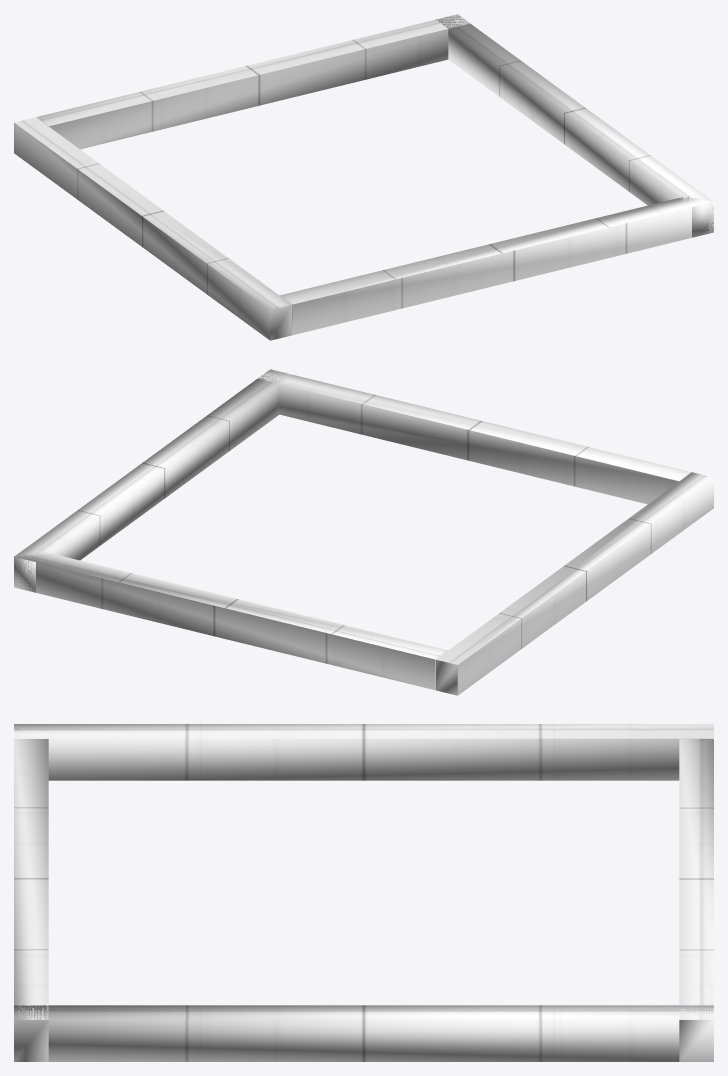
Rendered from floor.frame.glb.
The picture shows the model from 3 angles, top to bottom: view 1: azimuth 30°, elevation 25°; view 2: azimuth 150°, elevation 25°; view 3: azimuth 270°, elevation 25°; orthographic projection. The views are drawn at different scales.
Visible parts, largest first — view 1: floor.frame; view 2: floor.frame; view 3: floor.frame.
Boxes of the visible parts, x1,y1,x2,y2 form: floor.frame: (14,14,713,340); floor.frame: (14,369,713,695); floor.frame: (14,724,713,1061).
Size of the model in its own units: 3 by 0.1984 by 3.
Materials: 1 (1 with a texture image).
